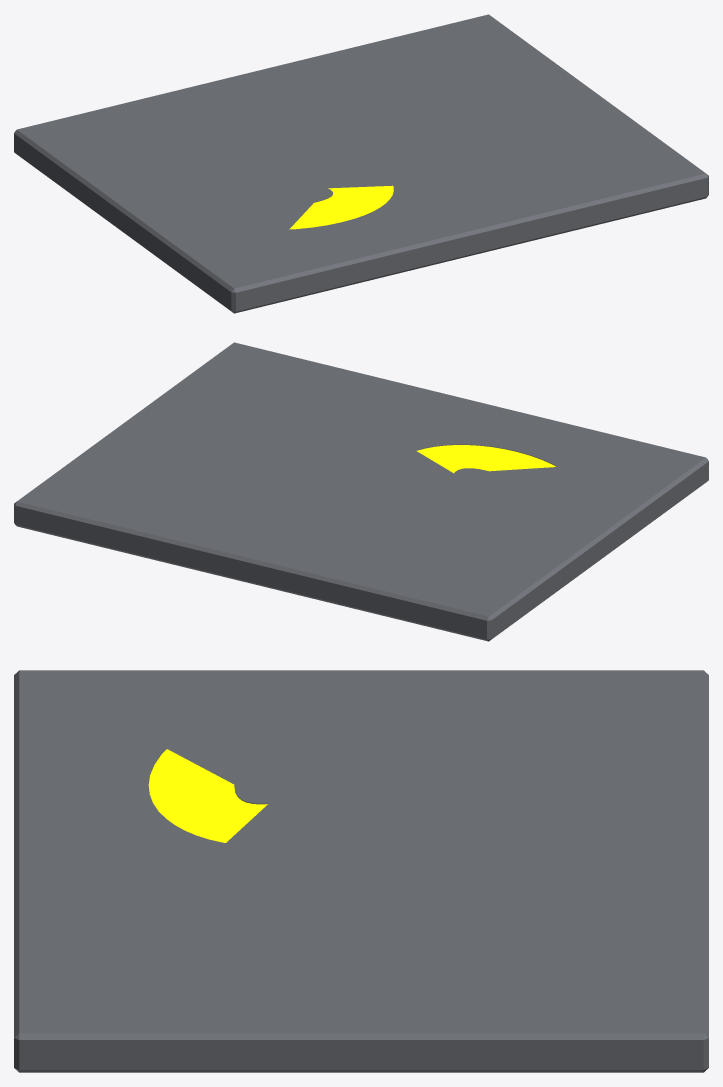
The model's file is SlotS4.fbx.
The picture shows the model from 3 angles, top to bottom: view 1: azimuth 30°, elevation 25°; view 2: azimuth 150°, elevation 25°; view 3: azimuth 270°, elevation 25°; orthographic projection. The views are drawn at different scales.
Parts seen in each view (by area): view 1: Plinth; view 2: Plinth; view 3: Plinth.
Part boxes in pixels (x1,y1,x2,y2): Plinth: (14, 14, 708, 313); Plinth: (14, 342, 708, 641); Plinth: (14, 670, 708, 1072).
Size of the model in its own units: 5 by 0.25 by 4.
